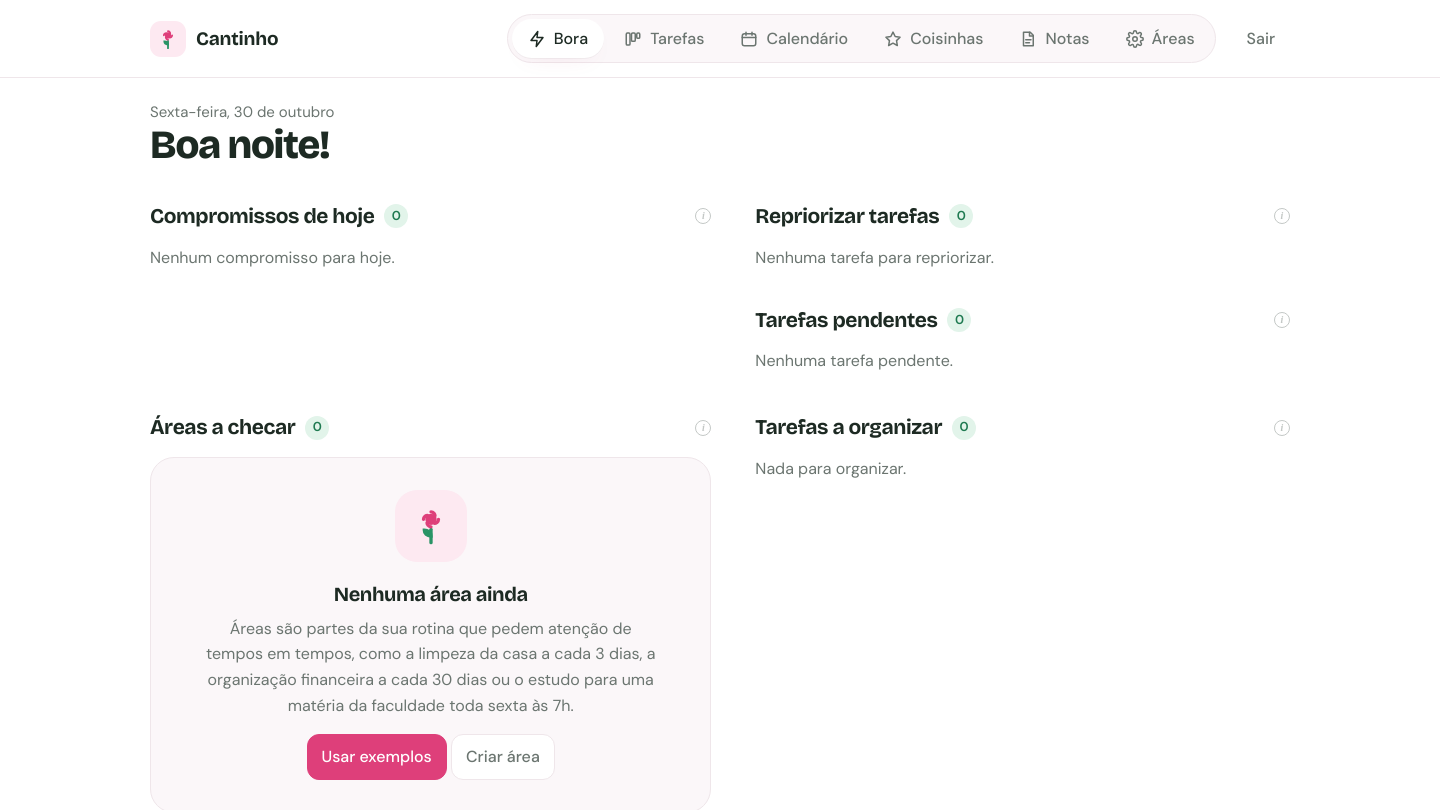
Test case: Login › sair salva o que faltava, encerra a sessão e apaga a cópia local
Click the tab "Áreas" at [1160, 39], box [1110,19,1211,58]
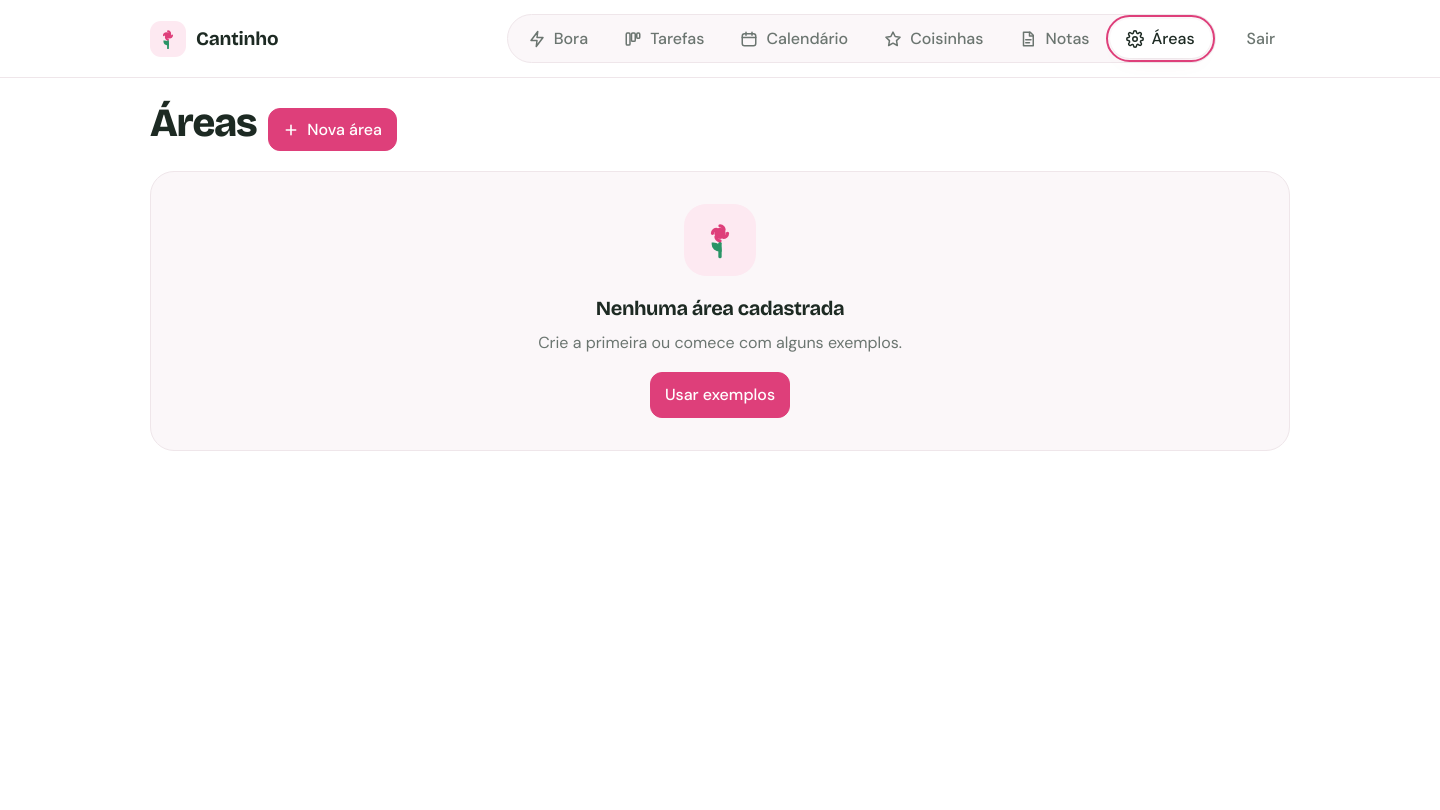
Click the button "Nova área" at [333, 130], box [268,108,397,151]
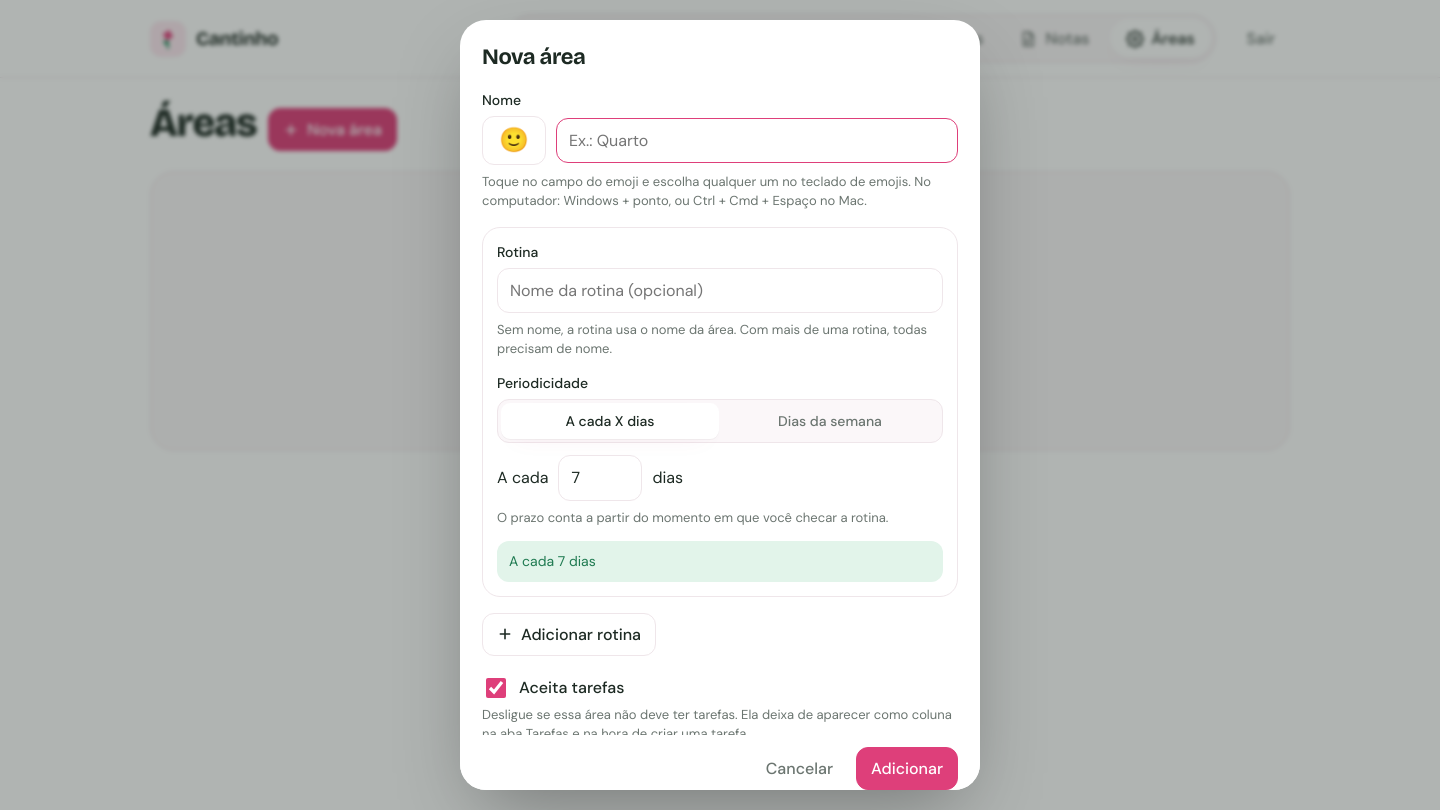
Type "Quarto" into the field with placeholder "Ex.: Quarto" at [757, 141], box [556,118,958,163]
Then press Enter
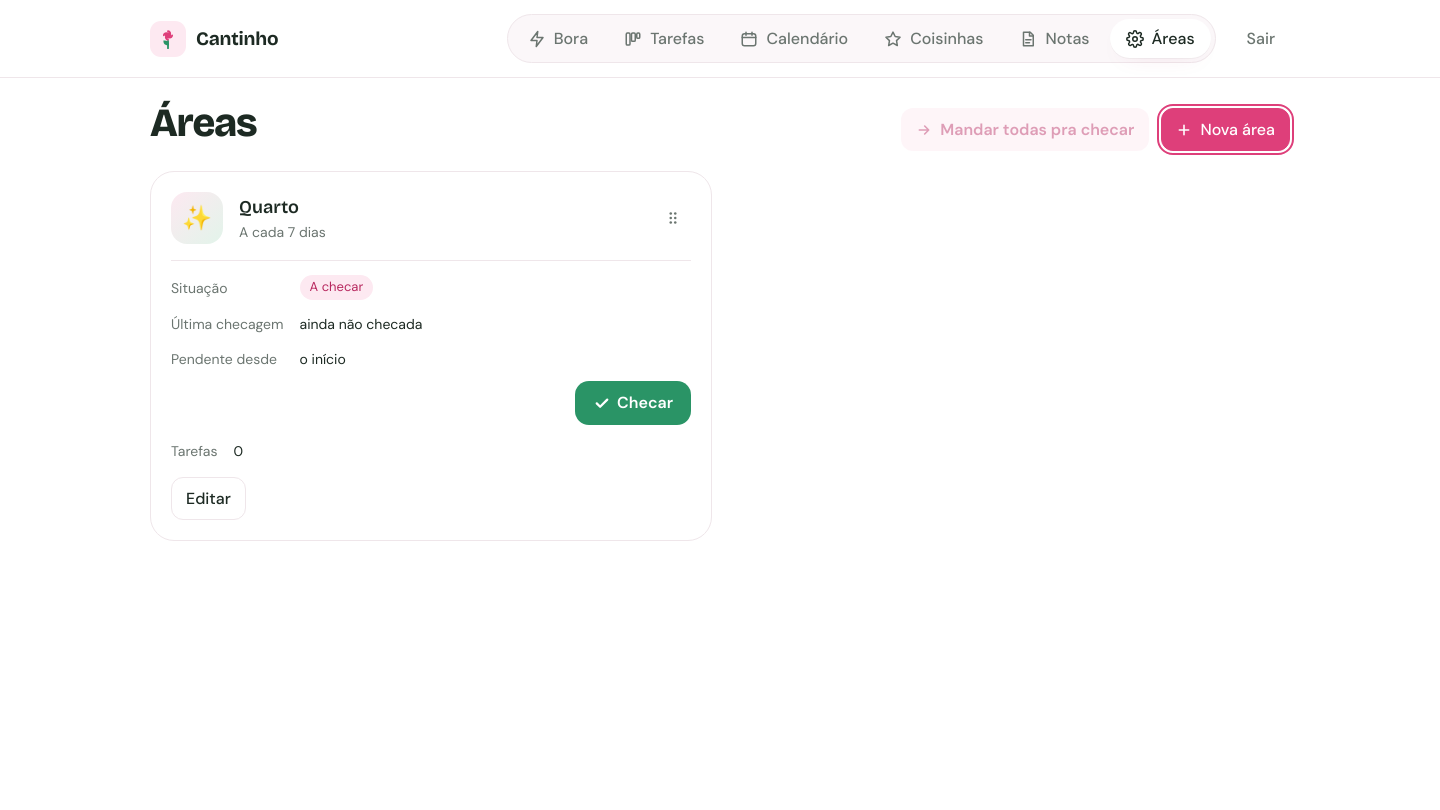
Click the button "Sair" at [1261, 39], box [1232,17,1290,60]
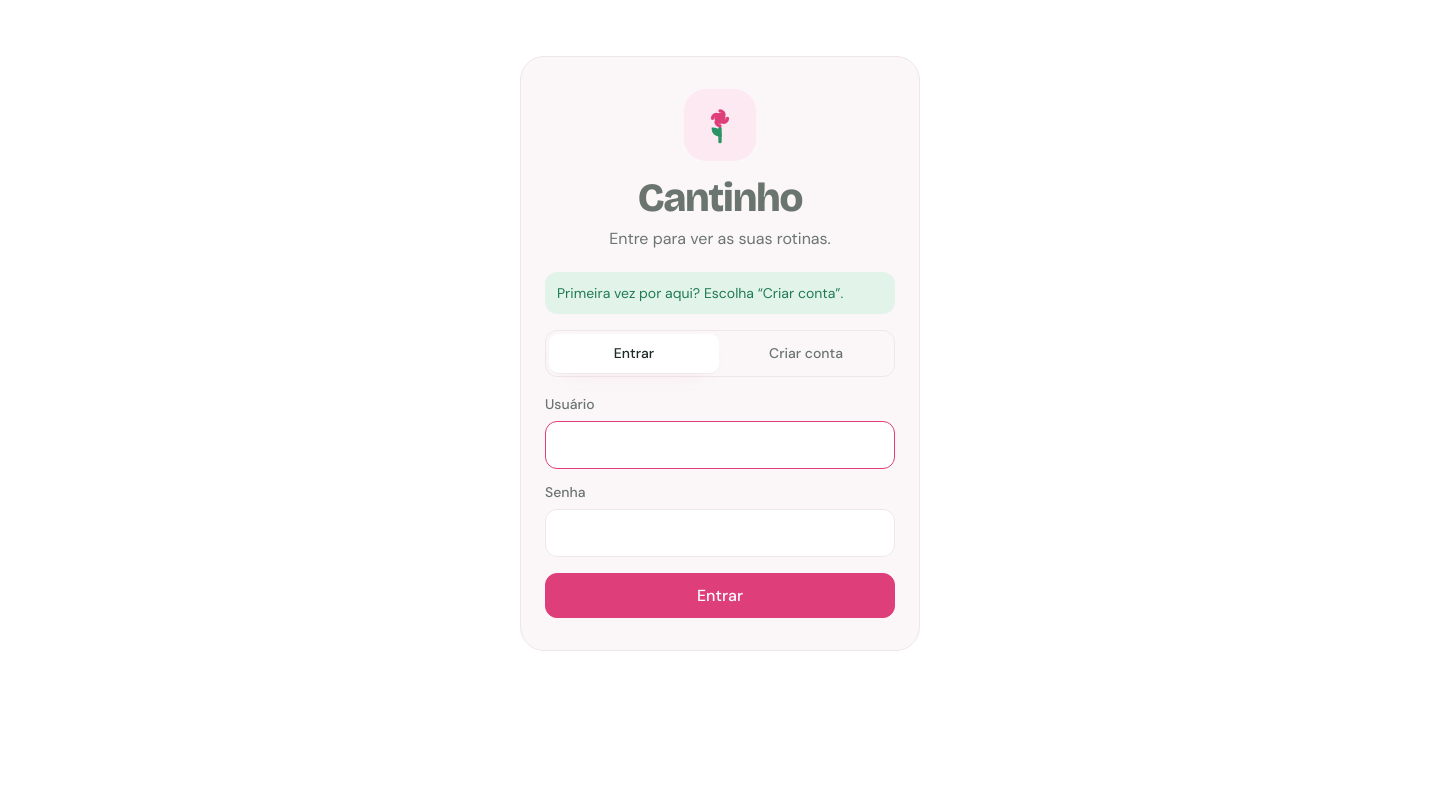
Result: the field labelled "Usuário" is shown at [545,421,895,469]
